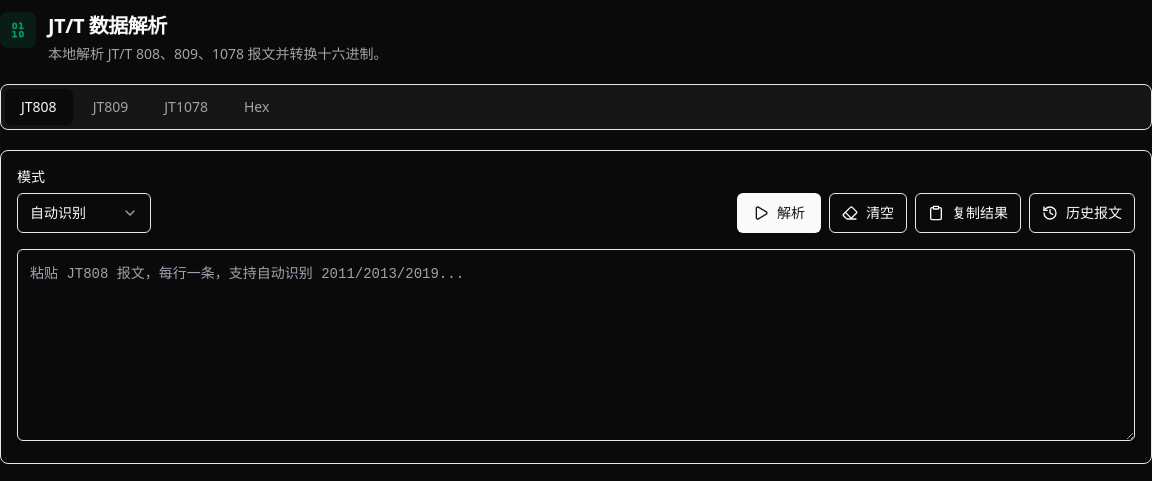
Scenario: JttDataParserTool › shows M1, IA1, and IC1 controls defaulting to 0 only in encrypted JT809 mode
Click the tab "JT809": (110, 107) [77,89,144,125]
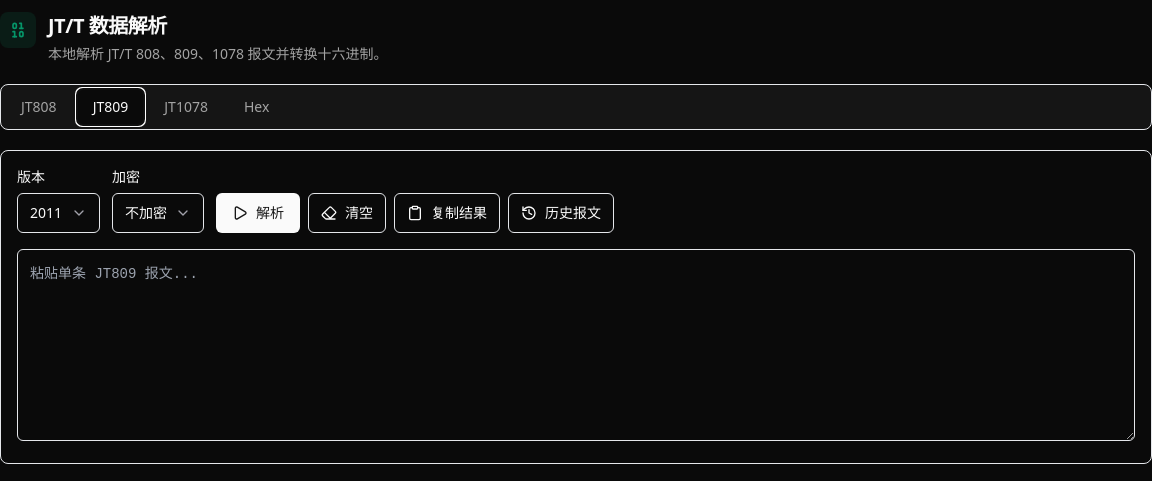
Expected: the field labelled "M1" is not shown
Select "加密" in the dropdown labelled "加密": (158, 213) [112,193,204,233]
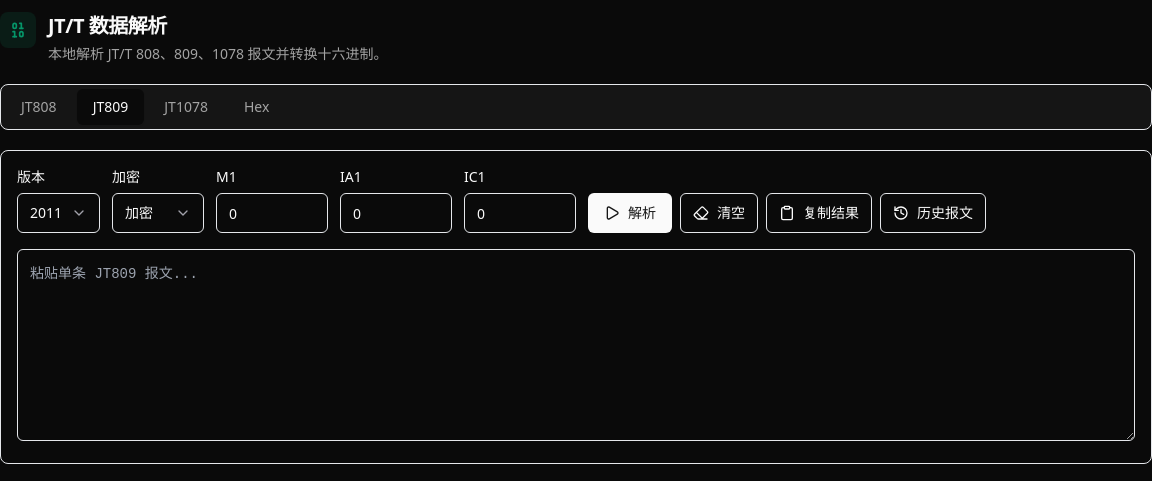
Result: the field labelled "M1" holds "0" at [216,193,328,233]
Result: the field labelled "IA1" holds "0" at [340,193,452,233]
Result: the field labelled "IC1" holds "0" at [464,193,576,233]
